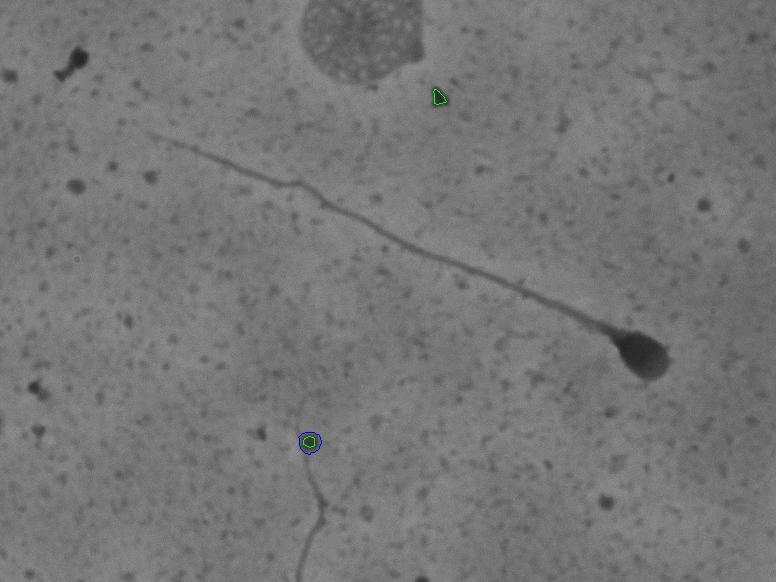Normal: (123, 108, 692, 413)
